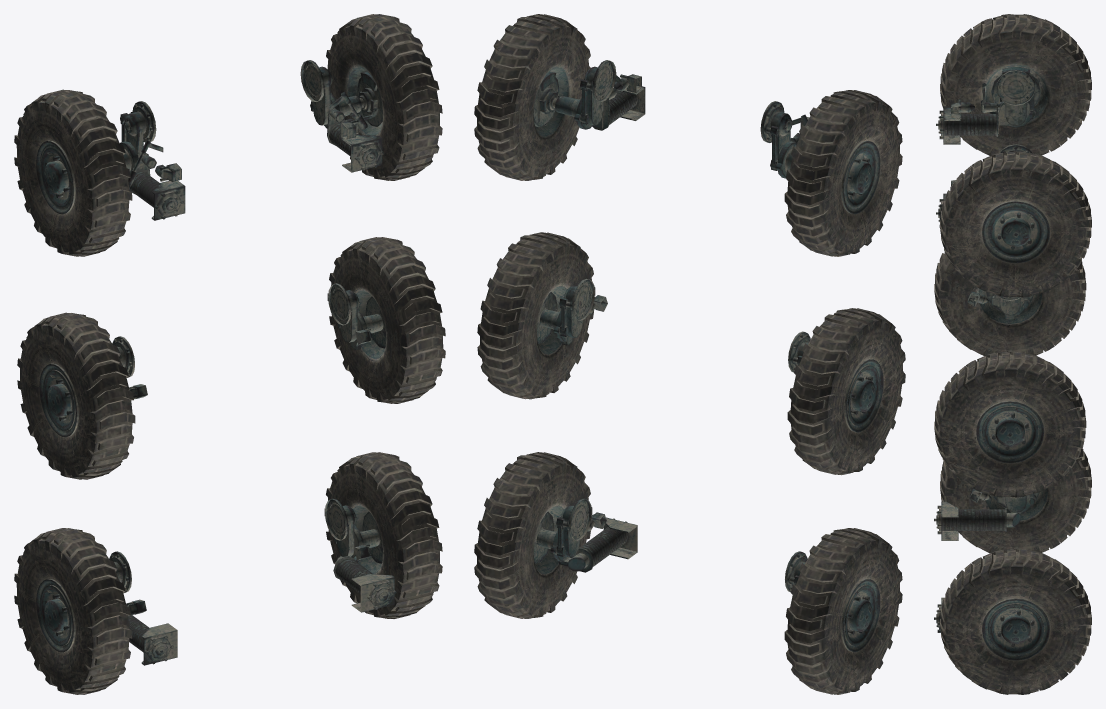
File: Chassis.glb
The picture shows the model from 3 angles, left to right: view 1: azimuth 30°, elevation 25°; view 2: azimuth 150°, elevation 25°; view 3: azimuth 270°, elevation 25°; orthographic projection. The views are drawn at different scales.
Visible parts, largest first — view 1: set_0_group_1, set_1_group_1, set_0_group_0, set_1_group_0; view 2: set_0_group_1, set_1_group_1, set_1_group_0, set_0_group_0; view 3: set_1_group_1, set_0_group_1, set_1_group_0, set_0_group_0.
Boxes of the visible parts, <box> form: set_0_group_1: <box>14,89,135,694</box>; set_1_group_1: <box>324,14,445,618</box>; set_0_group_0: <box>36,101,185,665</box>; set_1_group_0: <box>300,60,396,612</box>; set_0_group_1: <box>784,90,905,694</box>; set_1_group_1: <box>474,14,595,618</box>; set_1_group_0: <box>533,60,645,572</box>; set_0_group_0: <box>760,101,883,652</box>; set_1_group_1: <box>934,151,1091,694</box>; set_0_group_1: <box>934,14,1091,553</box>; set_1_group_0: <box>934,144,1049,660</box>; set_0_group_0: <box>934,66,1041,540</box>.
Size of the model in its own units: 2.49 by 3.93 by 1.05.
4 materials, 4 textured.
